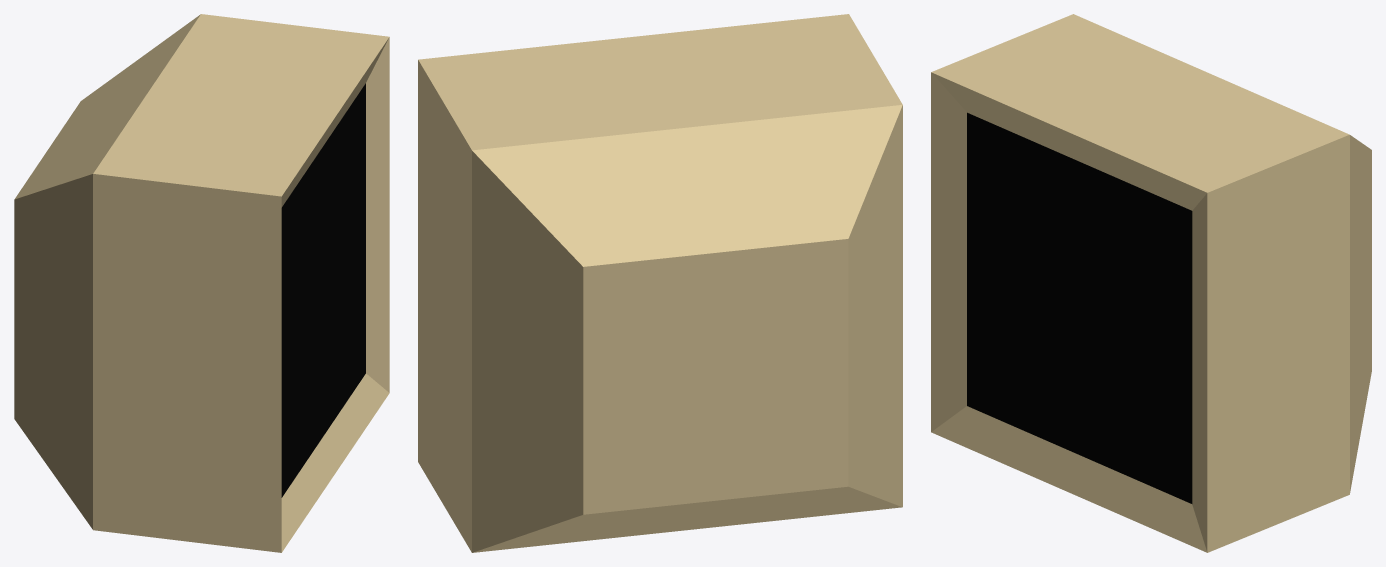
The picture shows the model from 3 angles, left to right: view 1: azimuth 30°, elevation 25°; view 2: azimuth 150°, elevation 25°; view 3: azimuth 270°, elevation 25°; orthographic projection. The views are drawn at different scales.
Parts seen in each view (by area): view 1: Cube.180; view 2: Cube.180; view 3: Cube.180.
Boxes of the visible parts, left/top/right/bottom form: Cube.180: left=14, top=14, right=389, bottom=552; Cube.180: left=418, top=14, right=902, bottom=552; Cube.180: left=931, top=14, right=1371, bottom=552.
Size of the model in its own units: 108 by 97.17 by 108.
